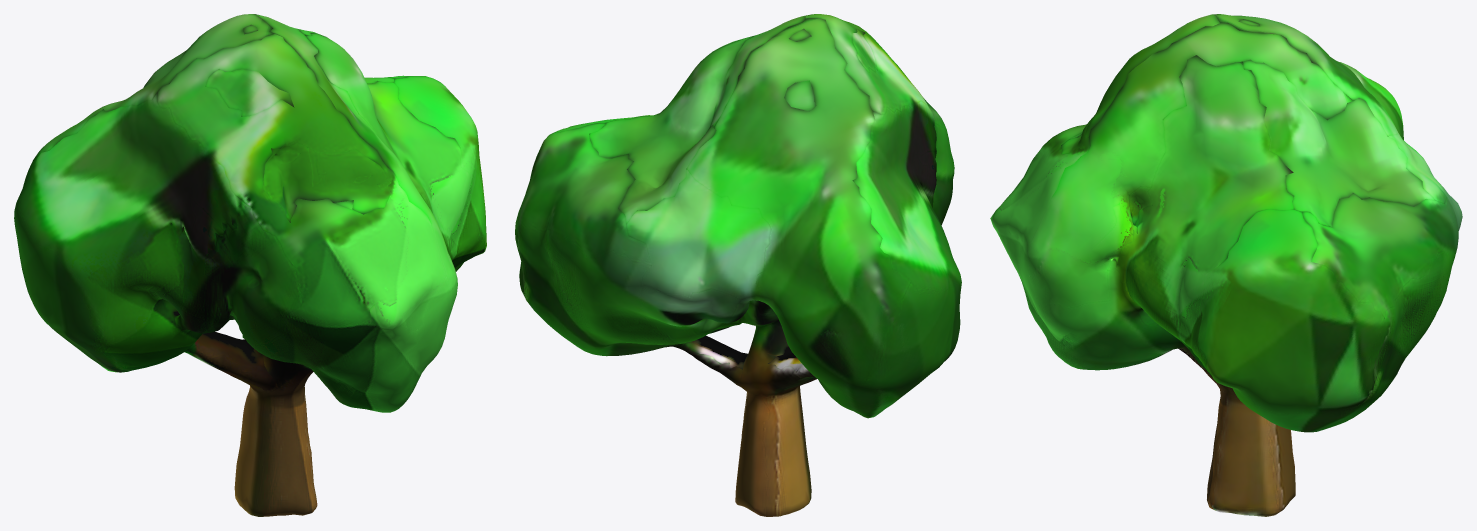
3 renders of one model, left to right at view 1: azimuth 30°, elevation 25°; view 2: azimuth 150°, elevation 25°; view 3: azimuth 270°, elevation 25°, orthographic. The views are drawn at different scales.
Visible parts, largest first — view 1: model.obj; view 2: model.obj; view 3: model.obj.
Boxes of the visible parts, left/top/right/bottom form: model.obj: left=14, top=14, right=486, bottom=516; model.obj: left=515, top=14, right=961, bottom=516; model.obj: left=990, top=14, right=1462, bottom=516.
Size of the model in its own units: 0.9673 by 1.08 by 0.9694.
Materials: 1 (1 with a texture image).
